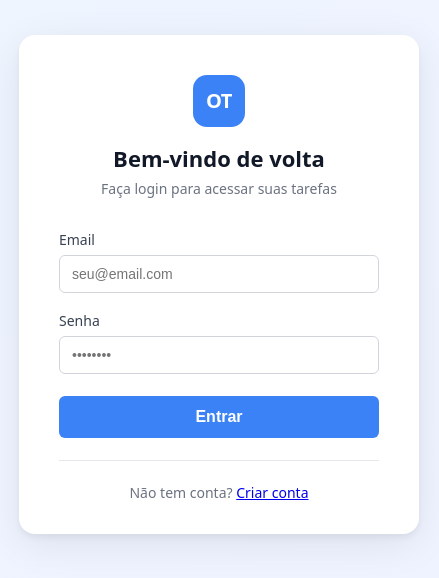
Test: Entrar › deve exibir mensagem de erro em credenciais inválidas
Type "x@ex.com" into the field labelled "Email" at (219, 274), box left=59, top=254, right=379, bottom=292
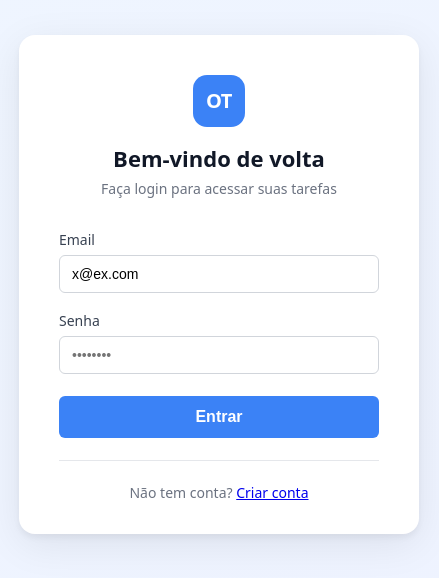
Type "errada" into the password field labelled "Senha" at (219, 354), box left=59, top=336, right=379, bottom=374
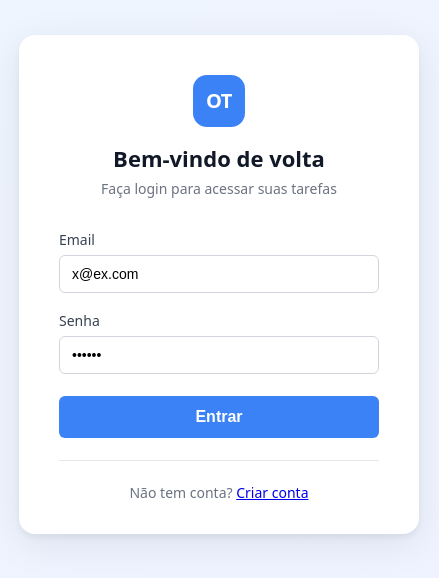
Click the button "Entrar" at (219, 416), box left=59, top=396, right=379, bottom=438
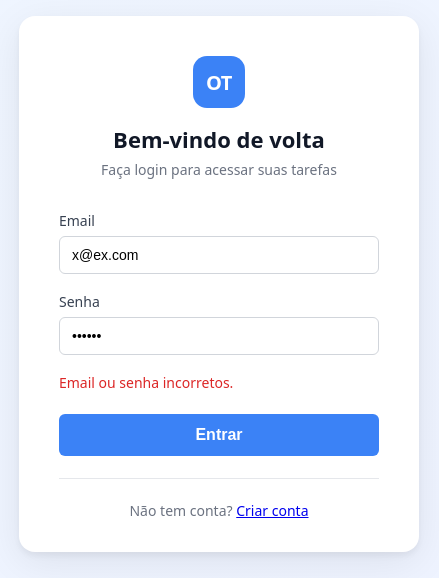
Now the text "Email ou senha incorretos." is shown, box left=59, top=373, right=233, bottom=392
